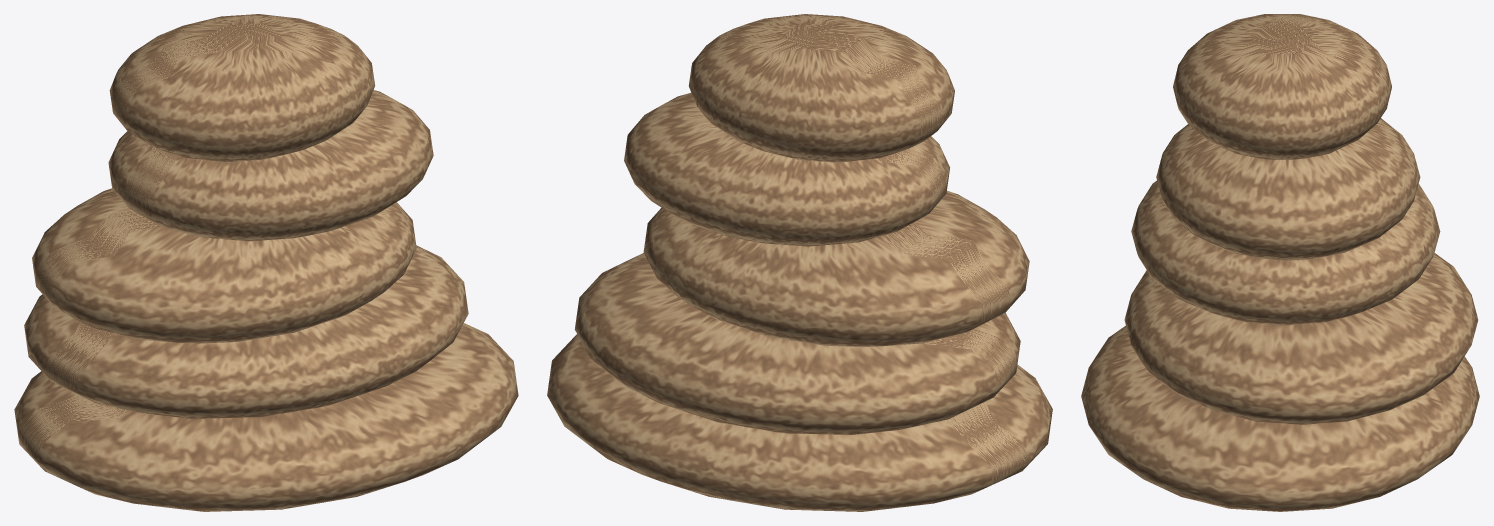
File: obstacle_mid_6.dae
3 renders of one model, left to right at view 1: azimuth 30°, elevation 25°; view 2: azimuth 150°, elevation 25°; view 3: azimuth 270°, elevation 25°, orthographic. The views are drawn at different scales.
Visible parts, largest first — view 1: obstacle_mid_6; view 2: obstacle_mid_6; view 3: obstacle_mid_6.
Boxes of the visible parts, box(x1,y1,x2,y2) form: obstacle_mid_6: box(14, 14, 518, 511); obstacle_mid_6: box(547, 14, 1052, 511); obstacle_mid_6: box(1081, 14, 1479, 511).
Bounding box in the file's own units: 1 × 0.8 × 0.8818.
Materials: 1 (1 with a texture image).
